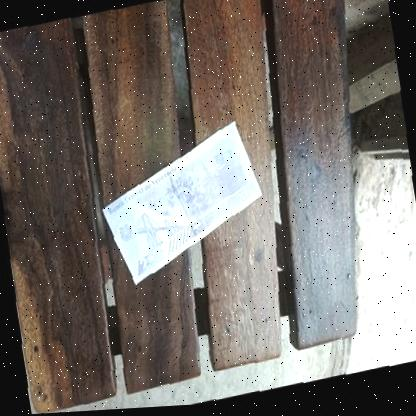two_hundred-back-vef: (92, 117, 272, 292)
